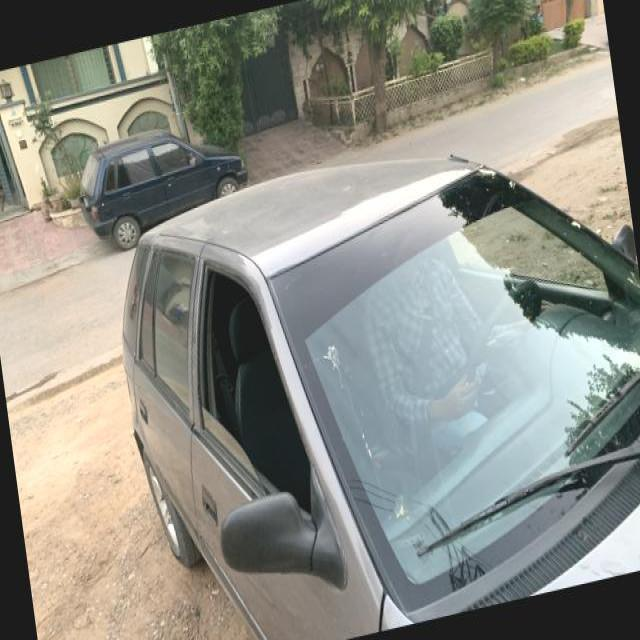seatbelt: (362, 256, 503, 430)
